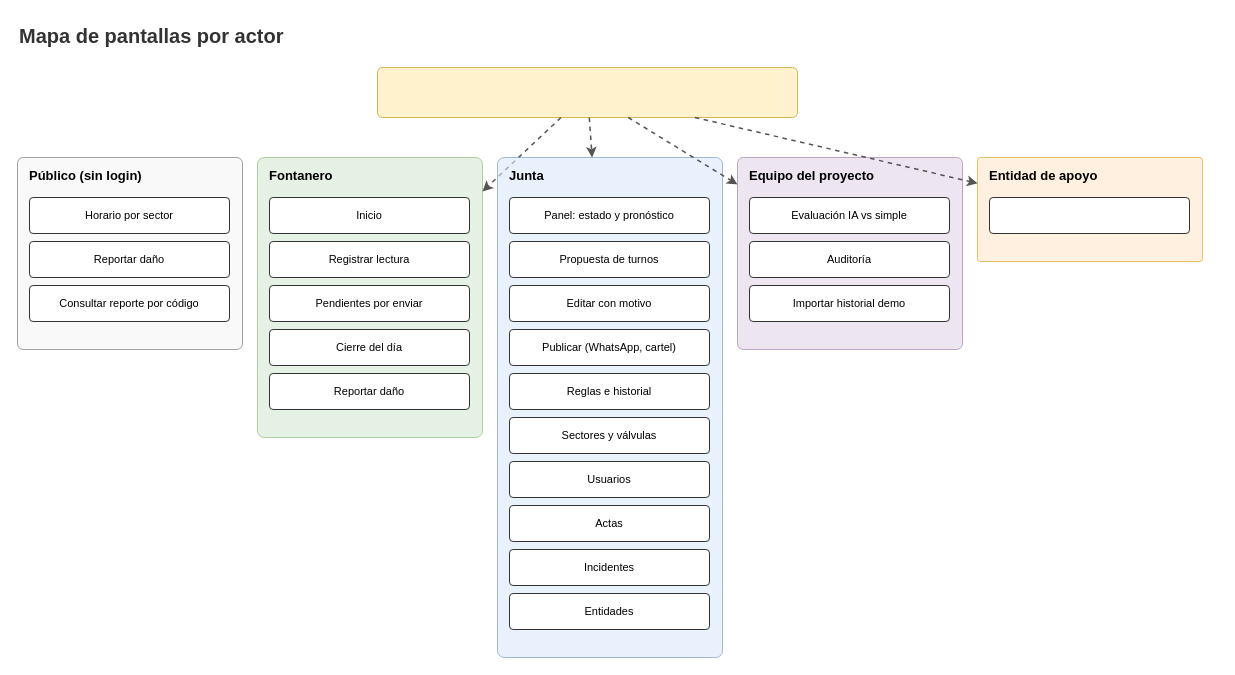
Some shapes in this 1235 by 675 pixel diagram are drawn without their labels. The centre of each missing label's shape, as x and y in pixels:
Login · cambio de contraseña · aviso de privacidad: the point at 587,92
Resúmenes autorizados: the point at 1089,215
